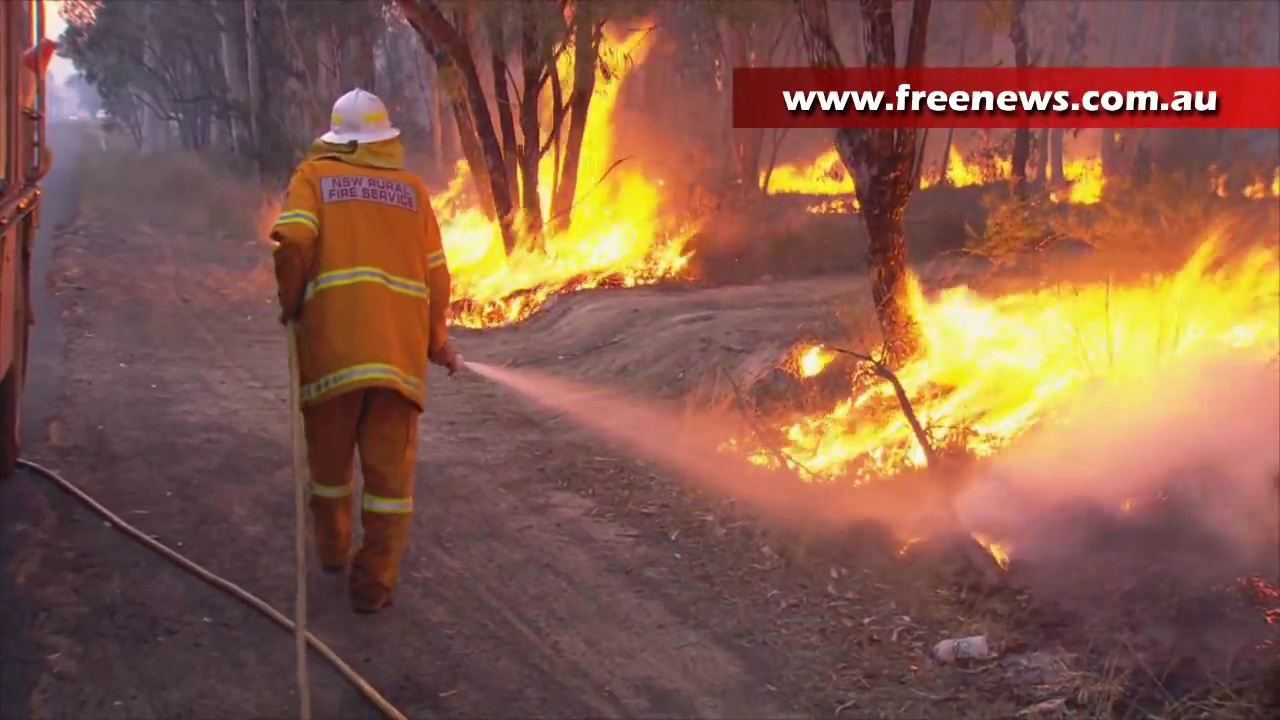fire: (792, 256, 1276, 480), (444, 74, 677, 318), (768, 159, 850, 191), (1065, 162, 1102, 202), (947, 152, 978, 182)
